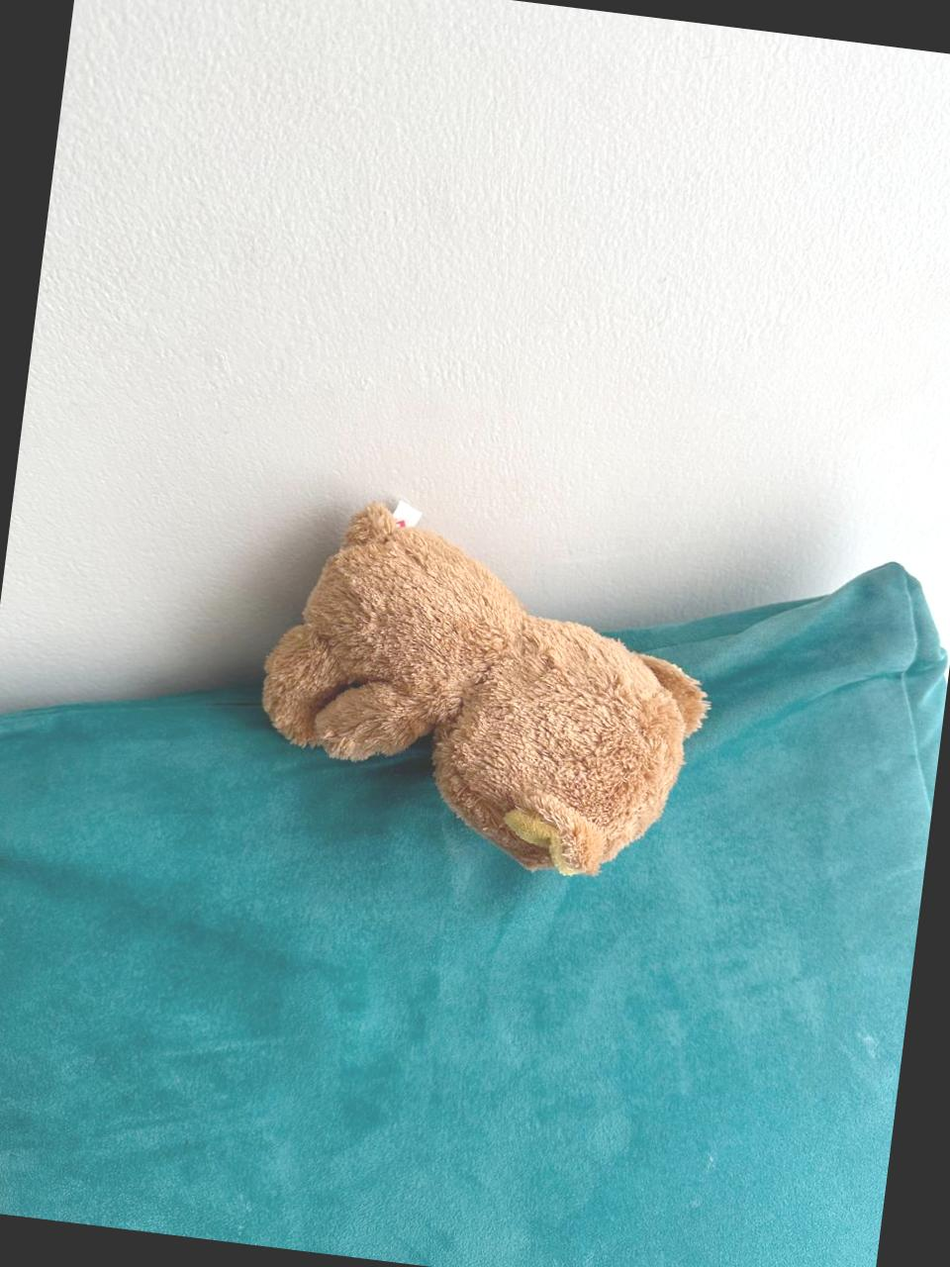peluche_sebastian: (229, 475, 749, 913)
